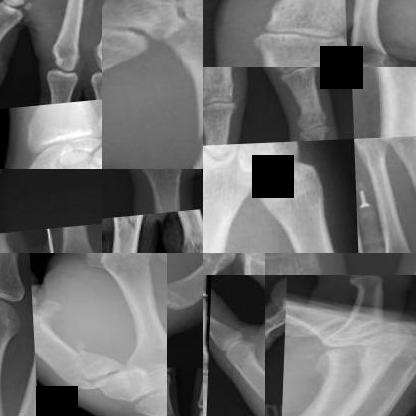fracture: (151, 34, 202, 158), (57, 341, 129, 391), (324, 326, 407, 356), (265, 253, 331, 275), (102, 215, 150, 243), (280, 297, 287, 321)
